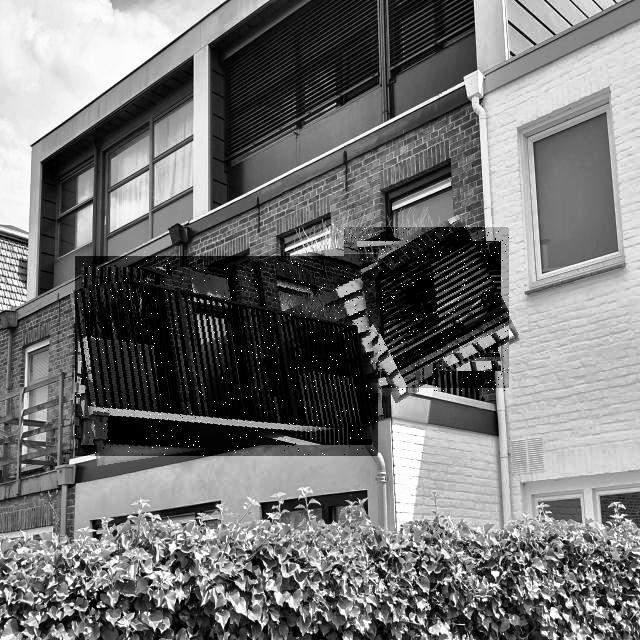fences: (75, 256, 378, 456), (344, 228, 509, 392)
